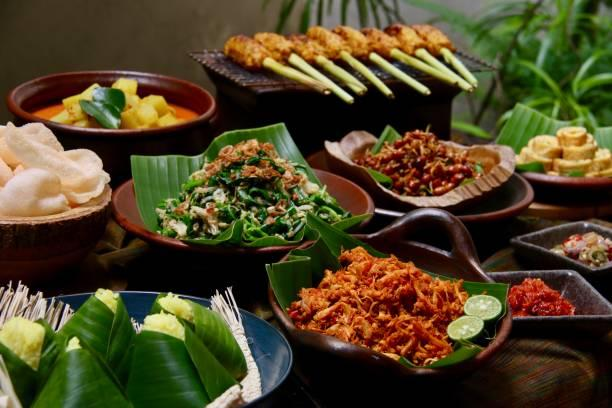Braised Crucian Carp: (269, 206, 511, 396), (9, 289, 294, 408), (109, 155, 373, 249), (8, 68, 219, 150)
